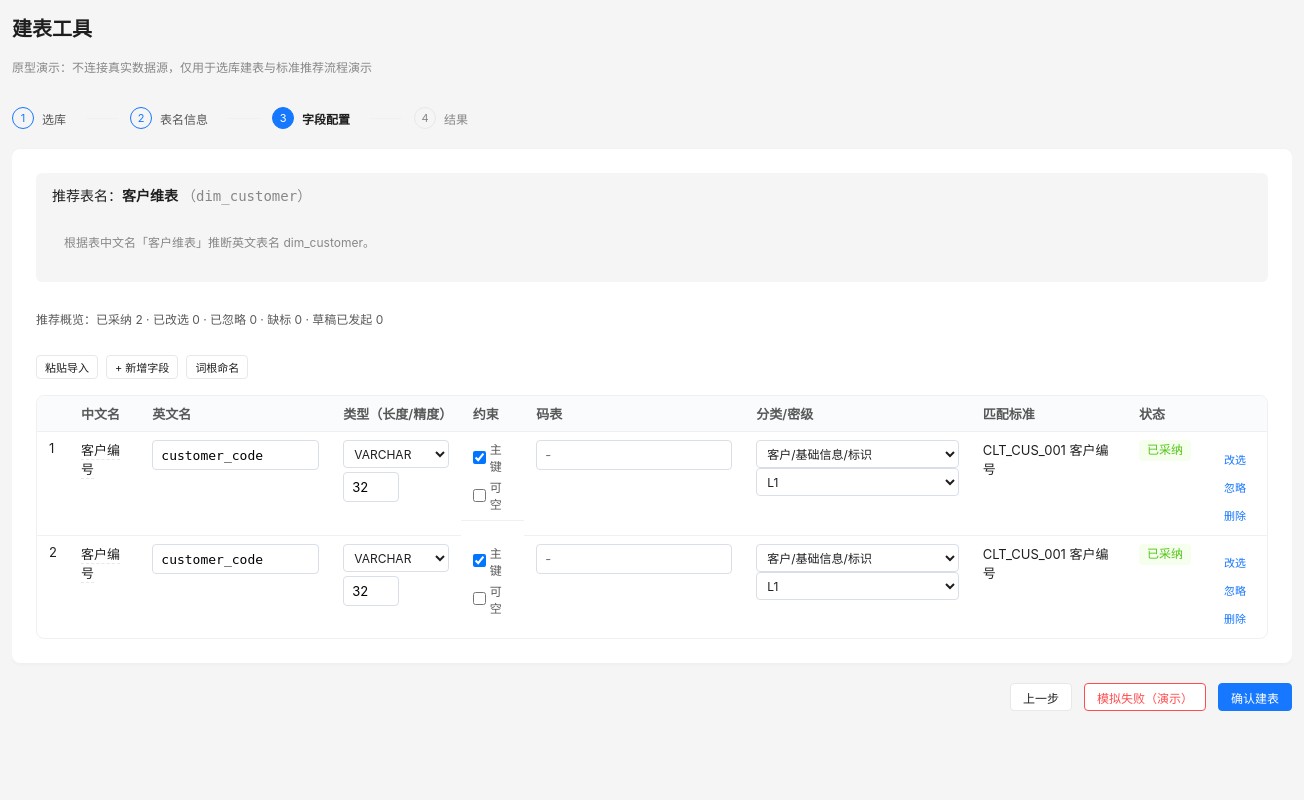
Scenario: TableBuilderPage step 3 recommend confirmation › blocks confirm create when english names duplicate
This screenshot has width=1304, height=800.
Click the button "确认建表" at coordinates (1255, 697), box [1218, 683, 1292, 711]
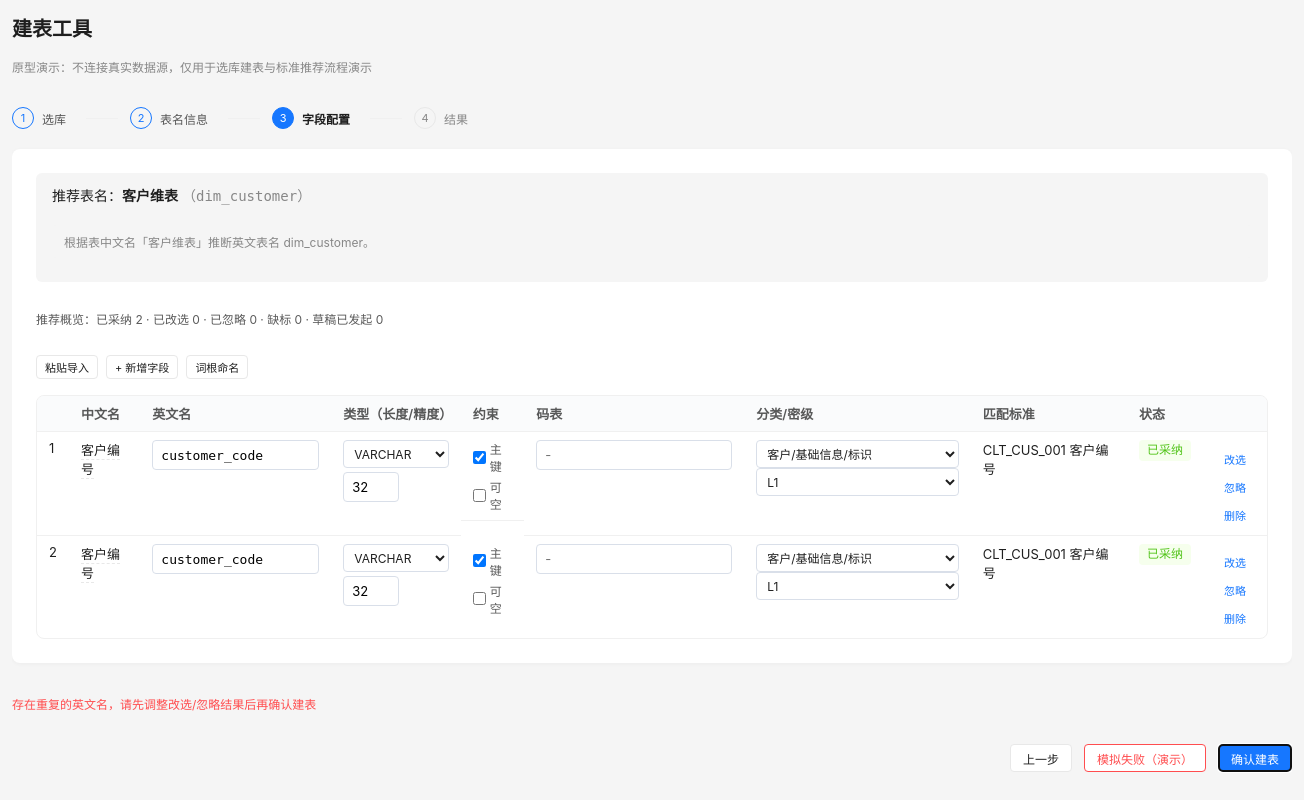
Expected: the button "确认建表" is shown, [1218, 744, 1292, 772]
Expected: the text "存在重复的英文名，请先调整改选/忽略结果后再确认建表" is shown, [12, 697, 316, 712]
